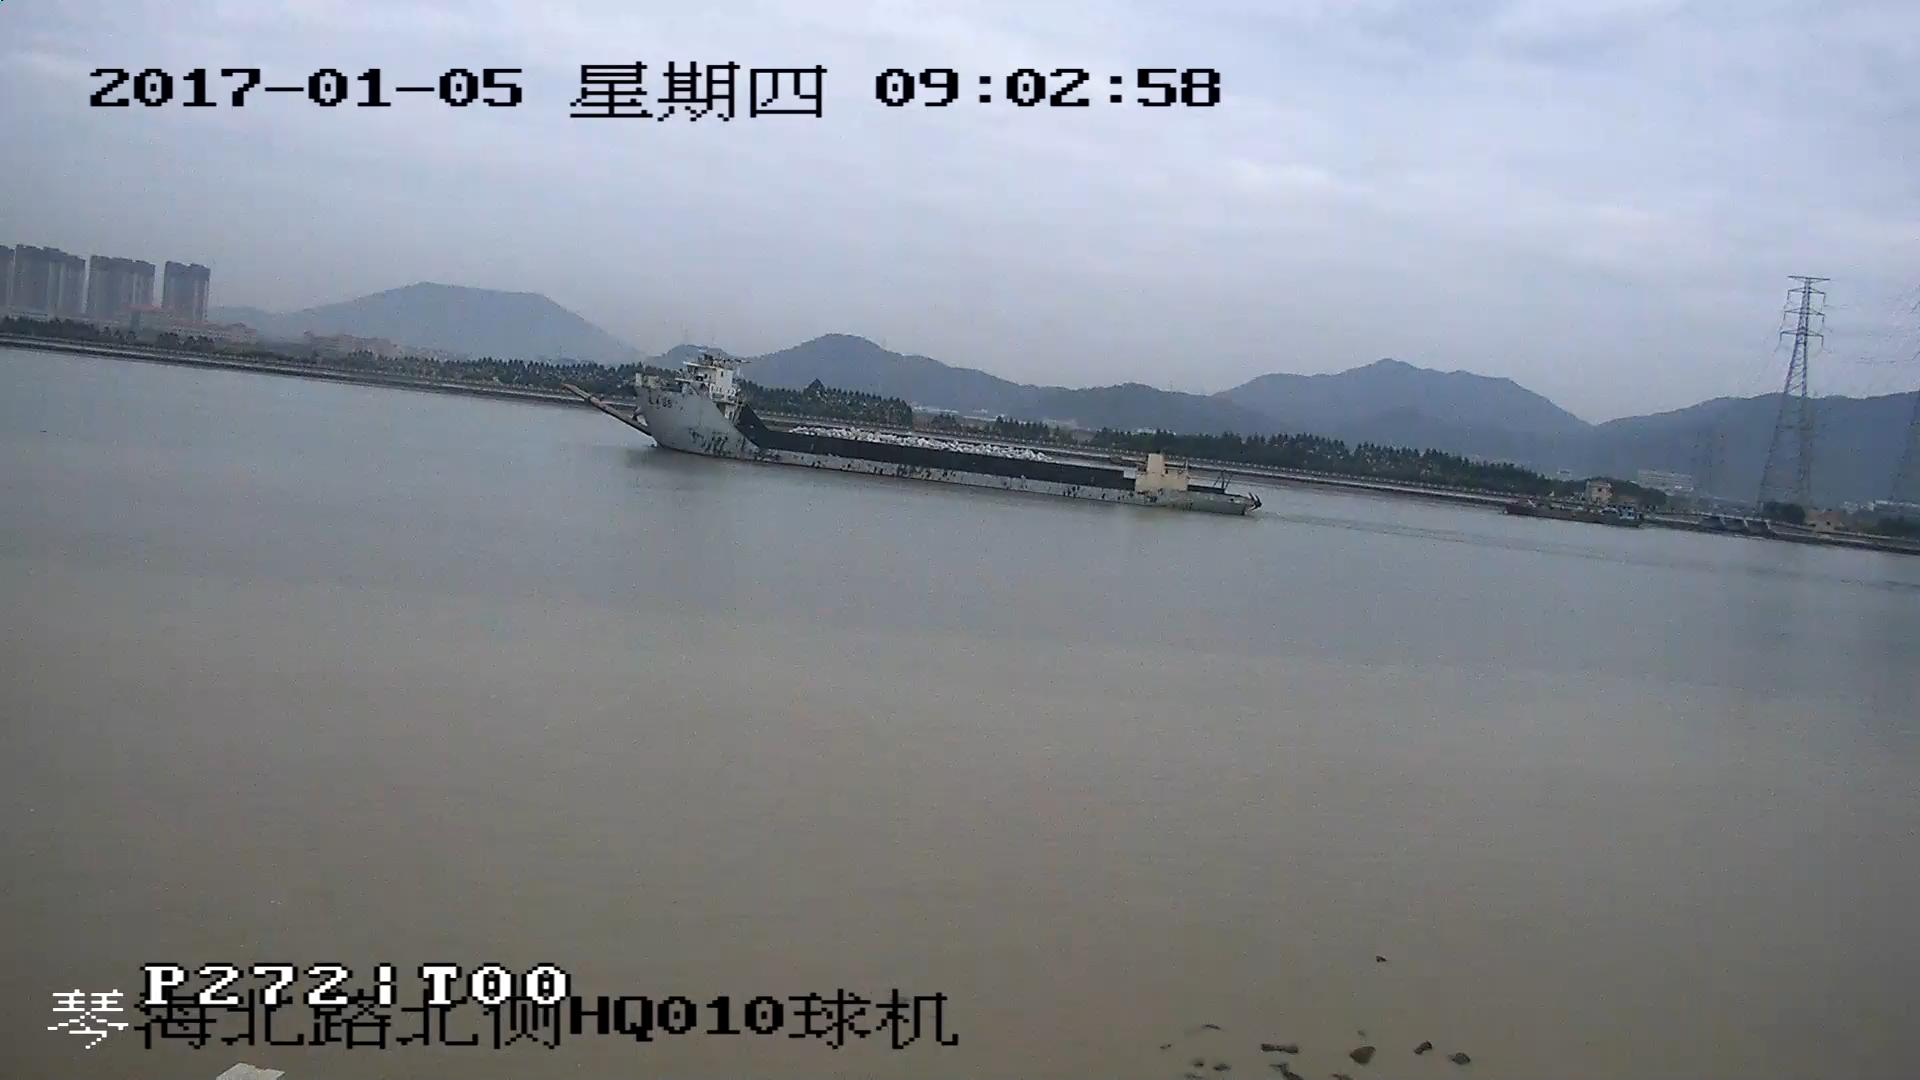bulk cargo carrier: (570, 363, 1248, 514)
